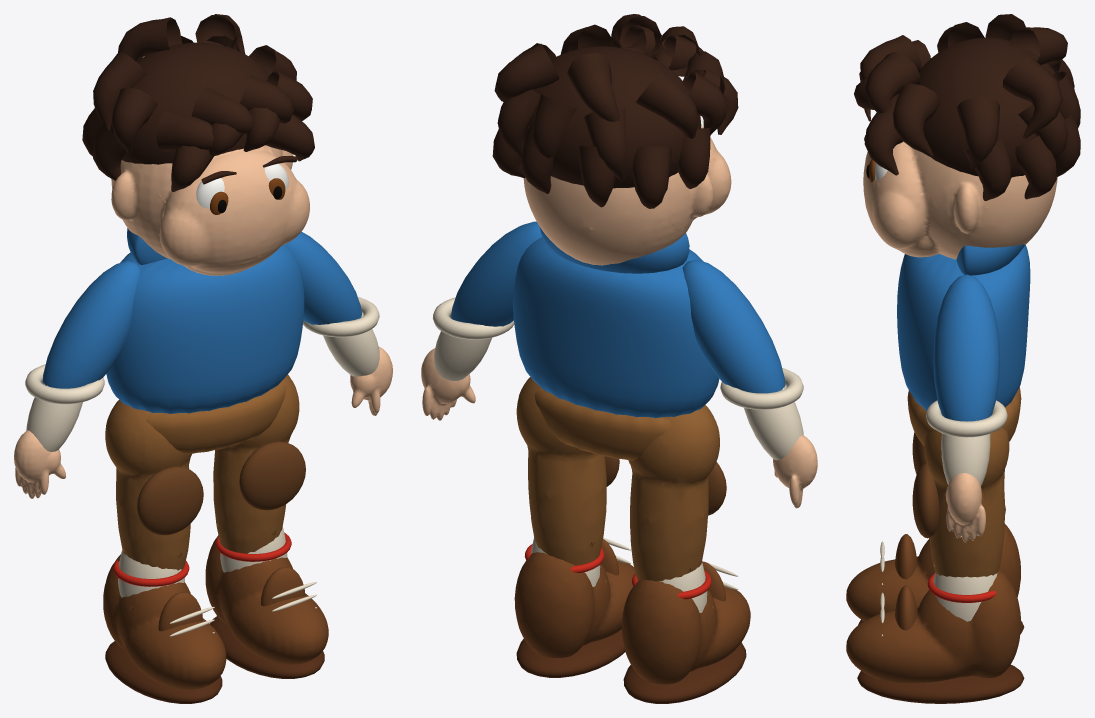
File: firipu_organic_v03.glb
3 views of the same model, side by side, from view 1: azimuth 30°, elevation 25°; view 2: azimuth 150°, elevation 25°; view 3: azimuth 270°, elevation 25° (orthographic). The views are drawn at different scales.
Parts seen in each view (by area): view 1: Poleron_Organico, Cabeza_Organica, Bota_L, Bota_R, Casquete_Cabello, Pierna_L, Manga_L, Pierna_R, Pantalon_Cintura, Manga_R, Rodillera_L, Rodillera_R (+29 smaller); view 2: Poleron_Organico, Pierna_L, Cabeza_Organica, Pierna_R, Bota_L, Bota_R, Casquete_Cabello, Manga_L, Pantalon_Cintura, Manga_R, Suela_L, Suela_R (+28 smaller); view 3: Cabeza_Organica, Bota_R, Poleron_Organico, Casquete_Cabello, Manga_R, Pierna_R, Bota_L, Suela_R, Mechon_07, Mechon_03, Mano_R, Mechon_08 (+21 smaller).
Part boxes in pixels (box(x1,y1,x2,y2)): Poleron_Organico: box(106, 245, 304, 413); Cabeza_Organica: box(111, 145, 309, 275); Bota_L: box(103, 554, 226, 689); Bota_R: box(205, 535, 328, 664); Casquete_Cabello: box(110, 42, 269, 164); Pierna_L: box(105, 399, 191, 570); Manga_L: box(42, 261, 140, 388); Pierna_R: box(213, 374, 299, 553); Pantalon_Cintura: box(145, 382, 286, 453); Manga_R: box(284, 231, 361, 324); Rodillera_L: box(137, 466, 203, 535); Rodillera_R: box(239, 441, 305, 510); Poleron_Organico: box(513, 237, 719, 418); Pierna_L: box(628, 405, 719, 581); Cabeza_Organica: box(523, 126, 731, 265); Pierna_R: box(516, 377, 606, 565); Bota_L: box(621, 579, 750, 684); Bota_R: box(514, 552, 635, 657); Casquete_Cabello: box(523, 46, 701, 188); Manga_L: box(682, 259, 785, 393); Pantalon_Cintura: box(534, 389, 672, 460); Manga_R: box(451, 221, 542, 326); Suela_L: box(623, 642, 746, 703); Suela_R: box(516, 629, 625, 677); Cabeza_Organica: box(863, 141, 1057, 259); Bota_R: box(846, 570, 1020, 682); Poleron_Organico: box(897, 245, 1030, 410); Casquete_Cabello: box(918, 37, 1057, 177); Manga_R: box(933, 274, 1000, 421); Pierna_R: box(924, 427, 1009, 577); Bota_L: box(846, 523, 1020, 620); Suela_R: box(857, 665, 1024, 703); Mechon_07: box(1002, 56, 1062, 138); Mechon_03: box(893, 83, 940, 157); Mano_R: box(945, 473, 985, 542); Mechon_08: box(956, 97, 999, 169).
Bounding box in the file's own units: 0.684 × 1.08 × 0.3606.
